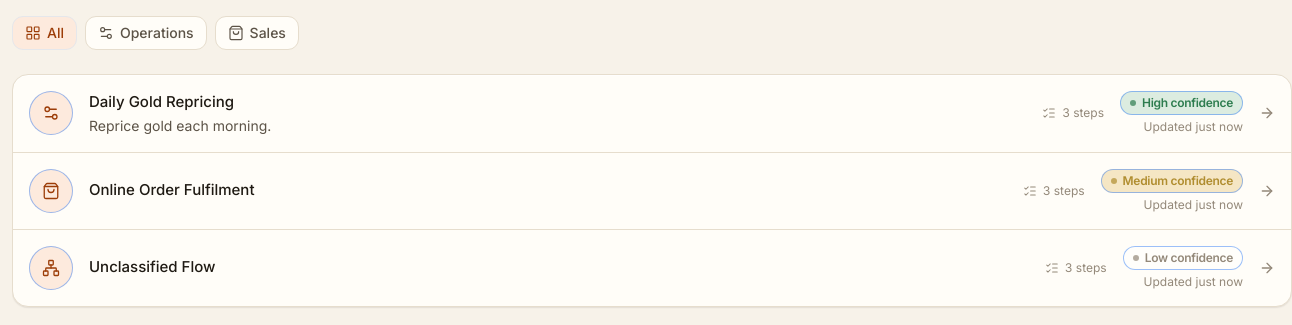
Test: WorkflowsList › filters rows when a department chip is clicked; unclassified only shows under All
The width and height of the screenshot is (1292, 325).
Expected: the text "Unclassified Flow" is shown, [89,257,216,276]
Expected: the text "Daily Gold Repricing" is shown, [89,92,234,111]
Click the button "Operations" at (146, 33), box [85,16,207,50]
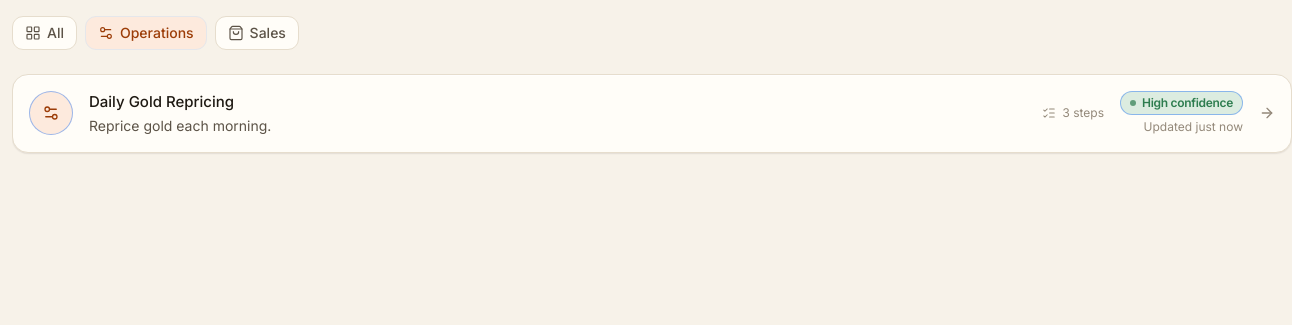
Expected: the text "Daily Gold Repricing" is shown, [89,92,234,111]
Expected: the link "Online Order Fulfilment" is gone
Expected: the link "Unclassified Flow" is gone
